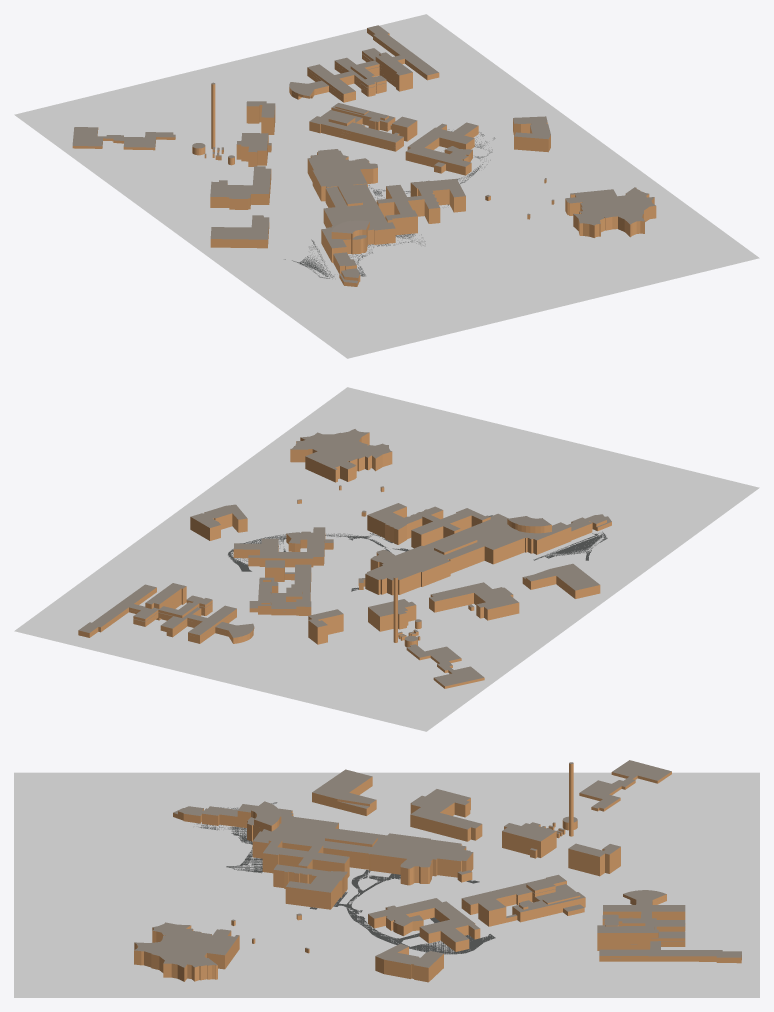
The model's file is small_otaniemi.glb.
The picture shows the model from 3 angles, top to bottom: view 1: azimuth 30°, elevation 25°; view 2: azimuth 150°, elevation 25°; view 3: azimuth 270°, elevation 25°; orthographic projection. The views are drawn at different scales.
Visible parts, largest first — view 1: Plane, Aalto-yliopisto Kandidaattikeskus, Aalto-yliopisto A Grid, Dipoli, Aalto-yliopisto Terveysteknologian talo, Aalto Rakennus- ja ympäristötekniikka, Aalto-yliopisto Konetekniikka 1, Marsio, Aalto Konetekniikka 4, element.020, Otaniemen voimalaitos, element.010; view 2: Plane, Aalto-yliopisto Kandidaattikeskus, Aalto-yliopisto A Grid, Dipoli, Aalto-yliopisto Terveysteknologian talo, Aalto Rakennus- ja ympäristötekniikka, Aalto-yliopisto Konetekniikka 1, Marsio, Aalto Konetekniikka 4, element.020, Otaniemen voimalaitos, element.010 (+1 smaller); view 3: Plane, Aalto-yliopisto Kandidaattikeskus, Aalto-yliopisto A Grid, Dipoli, Aalto-yliopisto Terveysteknologian talo, Aalto Rakennus- ja ympäristötekniikka, Aalto-yliopisto Konetekniikka 1, Marsio, Aalto Konetekniikka 4, element.020, element.022, Otaniemen voimalaitos (+1 smaller).
Part boxes in pixels (x1=…): Plane: x1=14, y1=14, x2=759, y2=358; Aalto-yliopisto Kandidaattikeskus: x1=307, y1=149, x2=465, y2=283; Aalto-yliopisto A Grid: x1=289, y1=25, x2=439, y2=102; Dipoli: x1=565, y1=187, x2=656, y2=237; Aalto-yliopisto Terveysteknologian talo: x1=309, y1=103, x2=417, y2=151; Aalto Rakennus- ja ympäristötekniikka: x1=405, y1=122, x2=478, y2=175; Aalto-yliopisto Konetekniikka 1: x1=210, y1=166, x2=271, y2=209; Marsio: x1=210, y1=215, x2=269, y2=248; Aalto Konetekniikka 4: x1=72, y1=127, x2=175, y2=150; element.020: x1=513, y1=116, x2=550, y2=152; Otaniemen voimalaitos: x1=236, y1=133, x2=268, y2=166; element.010: x1=246, y1=101, x2=275, y2=134; Plane: x1=14, y1=387, x2=759, y2=731; Aalto-yliopisto Kandidaattikeskus: x1=365, y1=503, x2=606, y2=595; Aalto-yliopisto A Grid: x1=78, y1=583, x2=254, y2=643; Dipoli: x1=290, y1=429, x2=392, y2=482; Aalto-yliopisto Terveysteknologian talo: x1=249, y1=560, x2=311, y2=615; Aalto Rakennus- ja ympäristötekniikka: x1=233, y1=527, x2=325, y2=567; Aalto-yliopisto Konetekniikka 1: x1=429, y1=582, x2=519, y2=620; Marsio: x1=522, y1=563, x2=600, y2=598; Aalto Konetekniikka 4: x1=406, y1=644, x2=484, y2=688; element.020: x1=190, y1=504, x2=247, y2=540; Otaniemen voimalaitos: x1=368, y1=599, x2=416, y2=631; element.010: x1=308, y1=609, x2=343, y2=644; Plane: x1=14, y1=772, x2=759, y2=997; Aalto-yliopisto Kandidaattikeskus: x1=178, y1=801, x2=473, y2=909; Aalto-yliopisto A Grid: x1=597, y1=890, x2=741, y2=963; Dipoli: x1=134, y1=922, x2=239, y2=981; Aalto-yliopisto Terveysteknologian talo: x1=461, y1=874, x2=585, y2=926; Aalto Rakennus- ja ympäristötekniikka: x1=368, y1=898, x2=480, y2=951; Aalto-yliopisto Konetekniikka 1: x1=410, y1=789, x2=482, y2=841; Marsio: x1=312, y1=769, x2=376, y2=815; Aalto Konetekniikka 4: x1=579, y1=760, x2=671, y2=811; element.020: x1=375, y1=943, x2=443, y2=982; element.022: x1=333, y1=870, x2=495, y2=954; Otaniemen voimalaitos: x1=502, y1=822, x2=556, y2=857.
Bounding box in the file's own units: 500 × 75 × 700.
